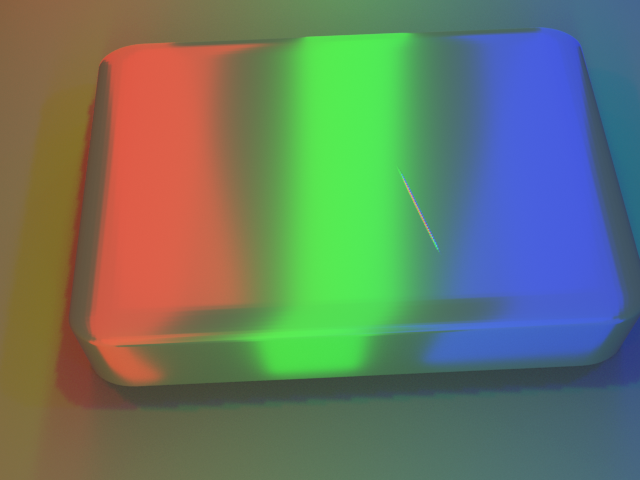scratch: (242, 102, 618, 324)
